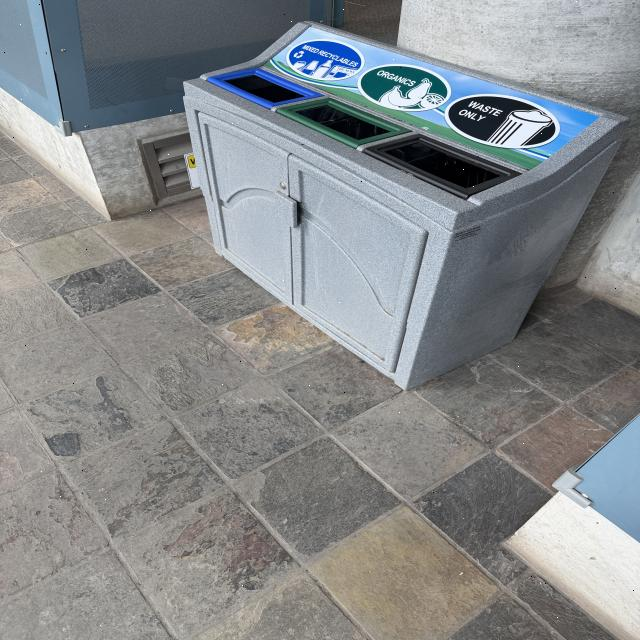Dustbin: (172, 21, 627, 391)
